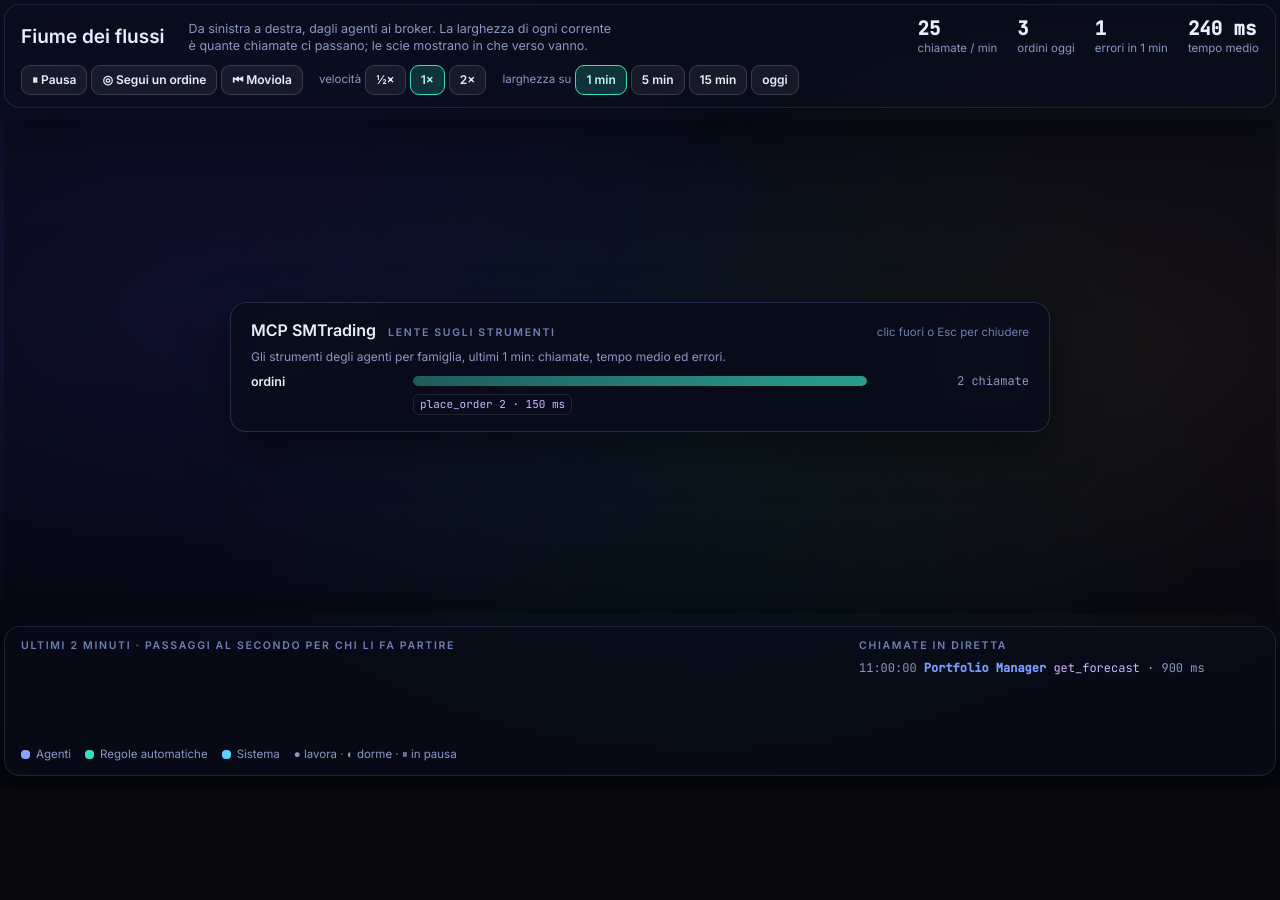
Test case: FlowRiver › opens the lens on MCP SMTrading and closes it with a click outside
Expected: the list item "ordini" shows "place_order", x1=420 y1=397 x2=493 y2=411
Click the element with test id "lens-backdrop".
click(80, 367)  # box x1=4 y1=120 x2=1276 y2=614
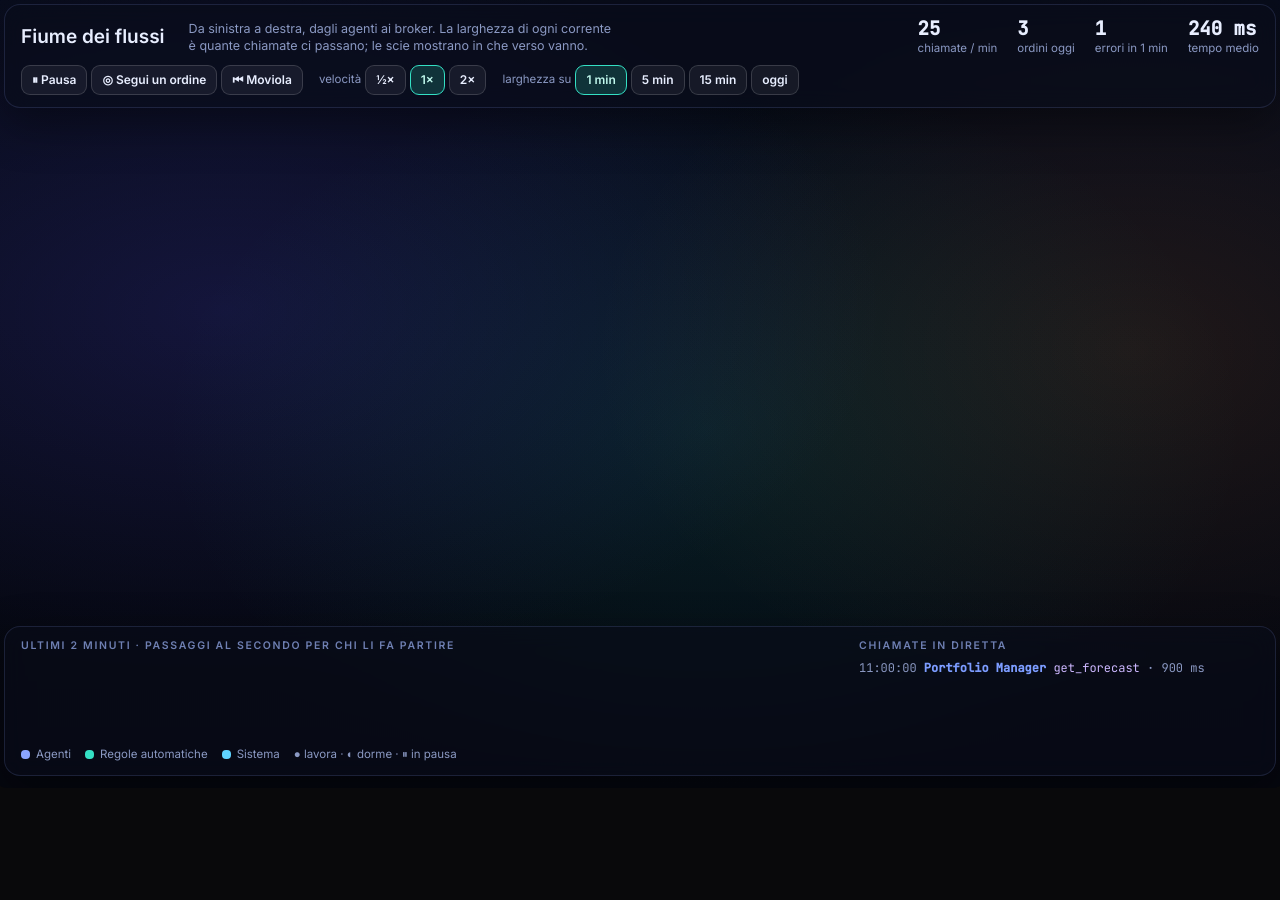
Expected: the dialog is gone
